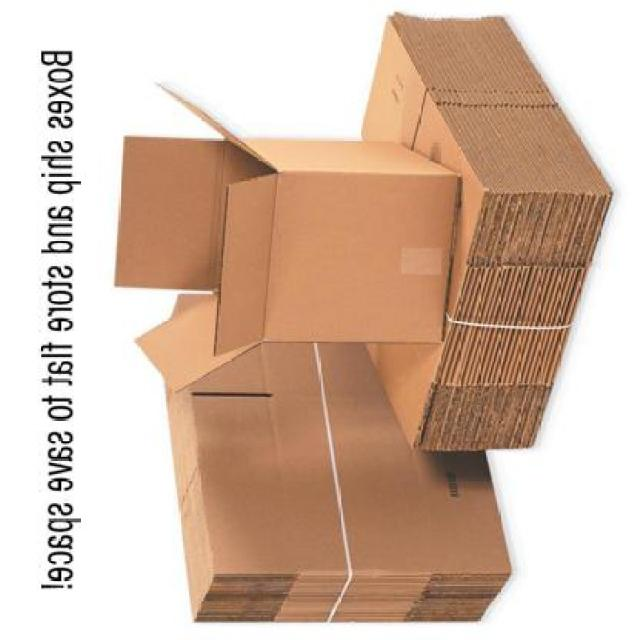defect: (112, 79, 466, 398)
